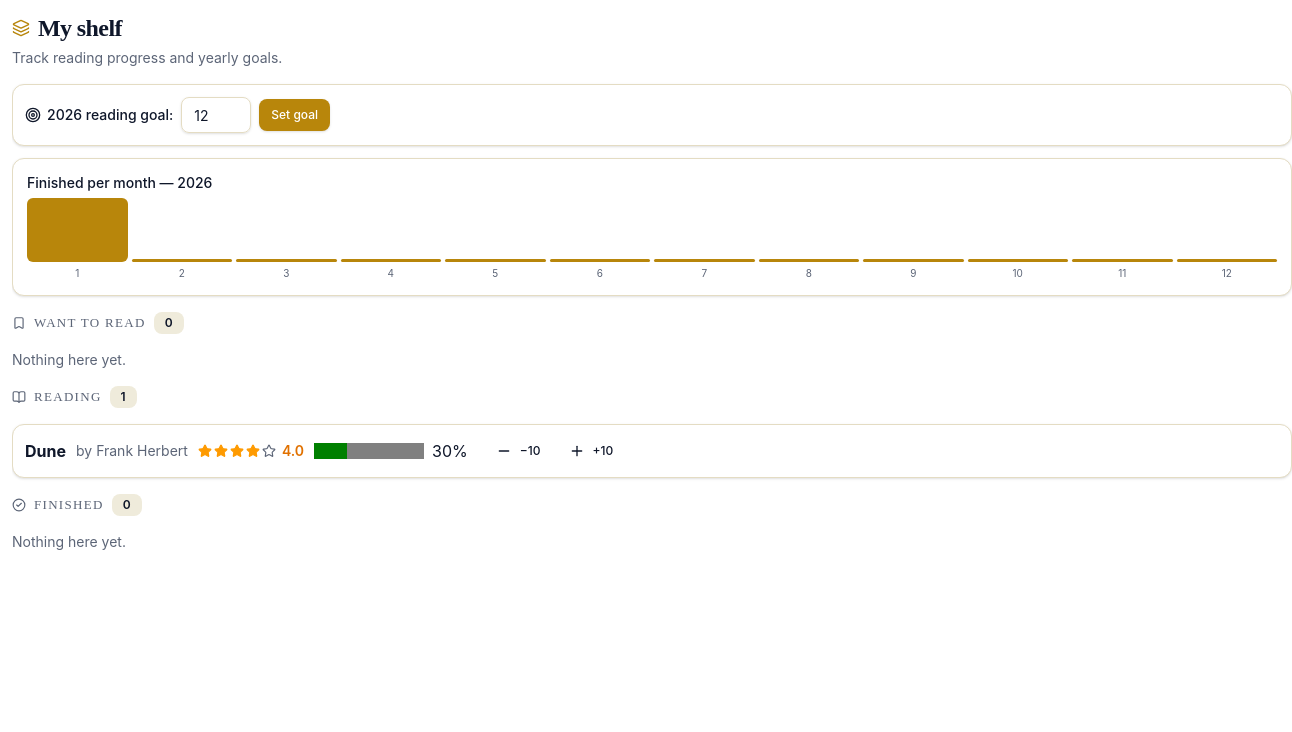
Scenario: shelf progress › progress stepper updates the shelf
Expected: the button "Dune" is shown, x1=25 y1=439 x2=66 y2=463
Expected: the text "30%" is shown, x1=314 y1=435 x2=625 y2=467
Click the button "+10". click: [591, 451]
box: x1=556 y1=435 x2=625 y2=467
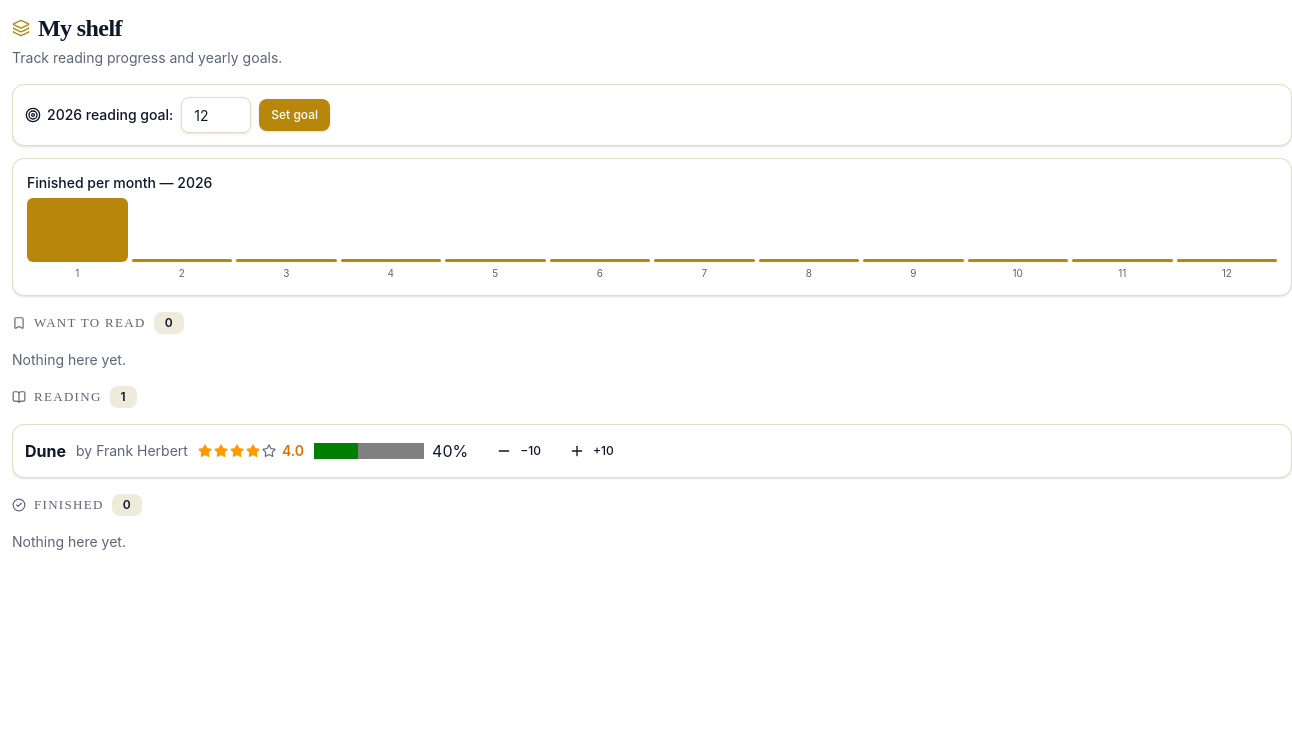
Expected: the text "40%" is shown, x1=314 y1=435 x2=626 y2=467
